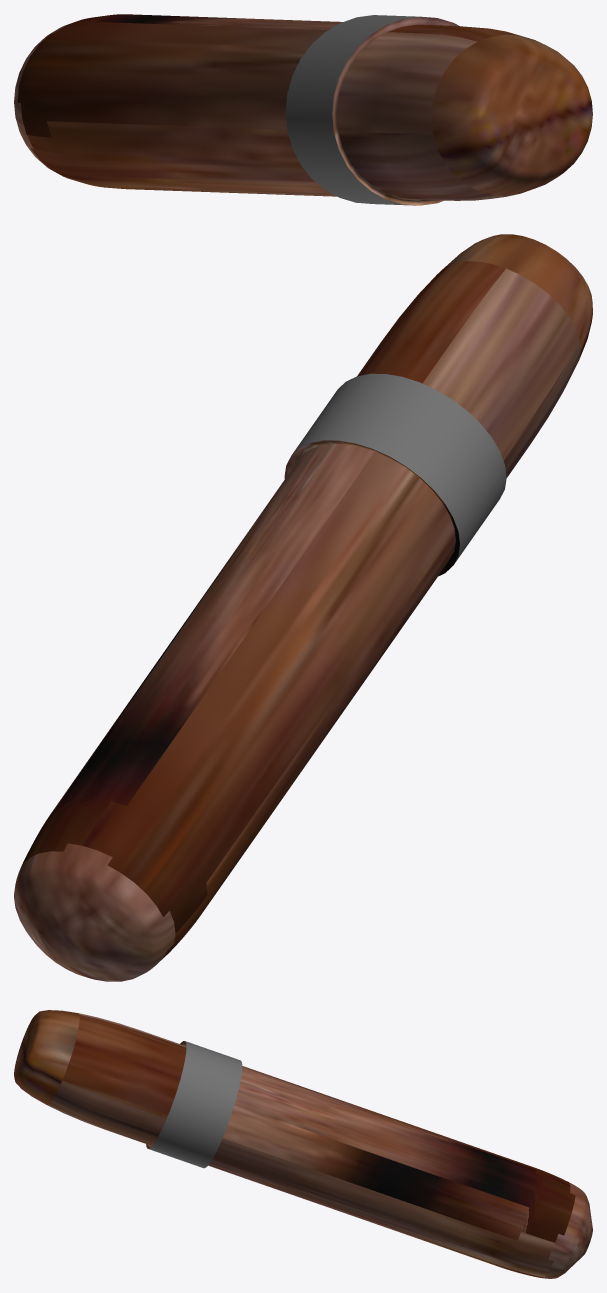
File: cigarFinalffffff.fbx
The picture shows the model from 3 angles, top to bottom: view 1: azimuth 30°, elevation 25°; view 2: azimuth 150°, elevation 25°; view 3: azimuth 270°, elevation 25°; orthographic projection. The views are drawn at different scales.
Visible parts, largest first — view 1: Cigar, Cigar.001; view 2: Cigar, Cigar.001; view 3: Cigar, Cigar.001.
Part boxes in pixels (x1,y1,x2,y2): Cigar: [14, 14, 592, 205]; Cigar.001: [285, 15, 418, 205]; Cigar: [14, 234, 592, 981]; Cigar.001: [291, 373, 506, 564]; Cigar: [14, 1010, 592, 1278]; Cigar.001: [148, 1041, 242, 1168].
Size of the model in its own units: 0.2168 by 0.5202 by 1.05.
Materials: 2 (1 with a texture image).
